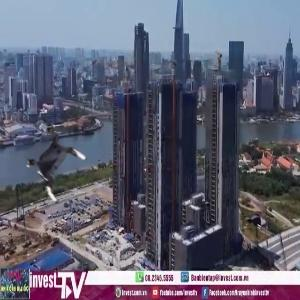drone: (19, 128, 91, 200)
